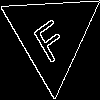F: (26, 10, 71, 65)
